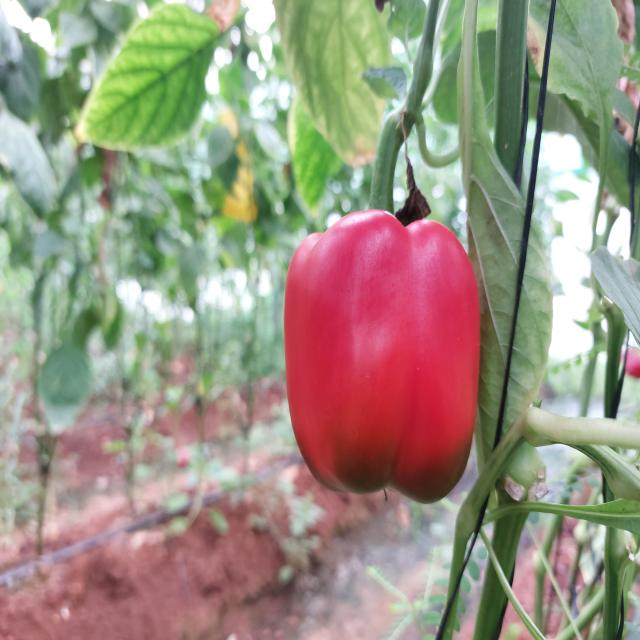Red-Ready-to-Harvest: (278, 205, 496, 506)
